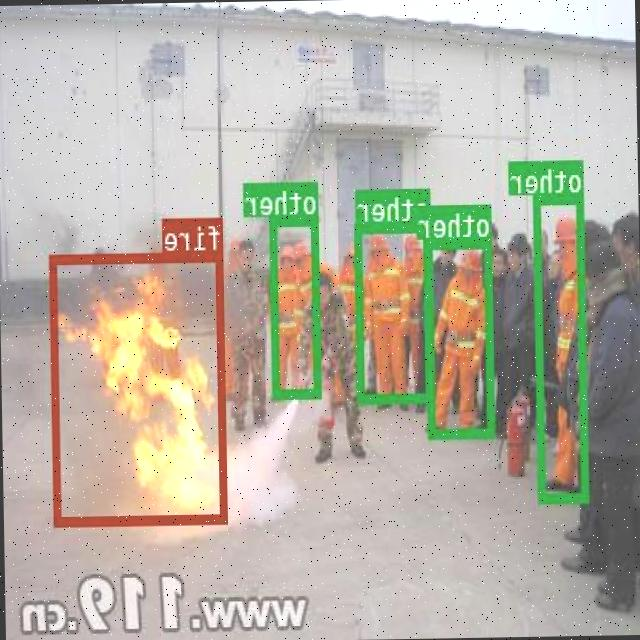fire: (50, 250, 228, 525)
